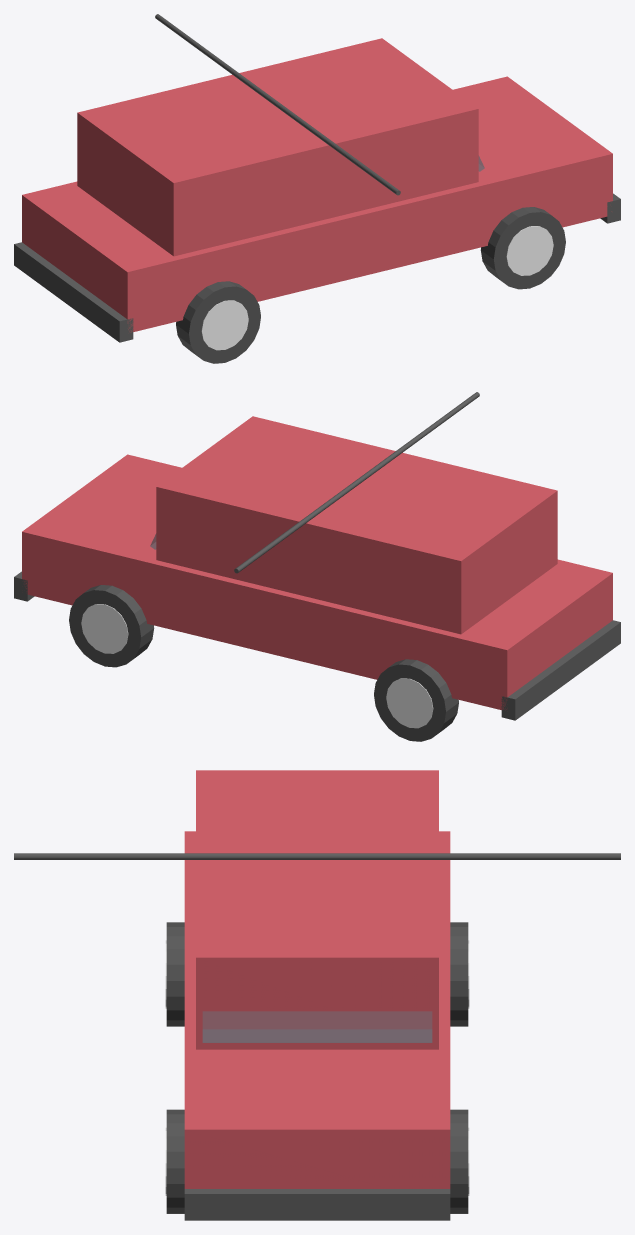
Rendered from jesse_tercel_wagon.glb.
The picture shows the model from 3 angles, top to bottom: view 1: azimuth 30°, elevation 25°; view 2: azimuth 150°, elevation 25°; view 3: azimuth 270°, elevation 25°; orthographic projection. The views are drawn at different scales.
Visible parts, largest first — view 1: Jesse_Tercel_cabin, Jesse_Tercel_body, Jesse_Tercel_br, Jesse_Tercel_wf_r_tire, Jesse_Tercel_wr_r_tire, Jesse_Tercel_wf_r_rim, Jesse_Tercel_wr_r_rim, Jesse_Tercel_rack_l, Jesse_Tercel_rack_r; view 2: Jesse_Tercel_cabin, Jesse_Tercel_body, Jesse_Tercel_br, Jesse_Tercel_wf_l_tire, Jesse_Tercel_wr_l_tire, Jesse_Tercel_wf_l_rim, Jesse_Tercel_wr_l_rim, Jesse_Tercel_rack_r, Jesse_Tercel_rack_l; view 3: Jesse_Tercel_cabin, Jesse_Tercel_body, Jesse_Tercel_bf, Jesse_Tercel_ws, Jesse_Tercel_rack_l, Jesse_Tercel_rack_r, Jesse_Tercel_wr_l_tire, Jesse_Tercel_wr_r_tire, Jesse_Tercel_wf_l_tire, Jesse_Tercel_wf_r_tire.
Boxes of the visible parts, bbox=[...] form: Jesse_Tercel_cabin: bbox=[77, 38, 478, 256]; Jesse_Tercel_body: bbox=[22, 76, 612, 332]; Jesse_Tercel_br: bbox=[14, 242, 133, 342]; Jesse_Tercel_wf_r_tire: bbox=[480, 207, 565, 289]; Jesse_Tercel_wr_r_tire: bbox=[176, 281, 260, 363]; Jesse_Tercel_wf_r_rim: bbox=[506, 226, 553, 275]; Jesse_Tercel_wr_r_rim: bbox=[201, 300, 248, 350]; Jesse_Tercel_rack_l: bbox=[240, 76, 400, 195]; Jesse_Tercel_rack_r: bbox=[155, 14, 313, 131]; Jesse_Tercel_cabin: bbox=[156, 416, 557, 634]; Jesse_Tercel_body: bbox=[22, 454, 612, 710]; Jesse_Tercel_br: bbox=[501, 620, 620, 720]; Jesse_Tercel_wf_l_tire: bbox=[69, 585, 154, 667]; Jesse_Tercel_wr_l_tire: bbox=[374, 659, 458, 741]; Jesse_Tercel_wf_l_rim: bbox=[81, 604, 128, 653]; Jesse_Tercel_wr_l_rim: bbox=[386, 678, 433, 728]; Jesse_Tercel_rack_r: bbox=[234, 454, 394, 573]; Jesse_Tercel_rack_l: bbox=[321, 392, 479, 510]; Jesse_Tercel_cabin: bbox=[196, 770, 438, 1049]; Jesse_Tercel_body: bbox=[184, 831, 450, 1188]; Jesse_Tercel_bf: bbox=[184, 1189, 450, 1220]; Jesse_Tercel_ws: bbox=[202, 1011, 432, 1042]; Jesse_Tercel_rack_l: bbox=[14, 853, 407, 859]; Jesse_Tercel_rack_r: bbox=[227, 853, 620, 859]; Jesse_Tercel_wr_l_tire: bbox=[450, 922, 468, 1026]; Jesse_Tercel_wr_r_tire: bbox=[166, 922, 184, 1026]; Jesse_Tercel_wf_l_tire: bbox=[450, 1109, 468, 1213]; Jesse_Tercel_wf_r_tire: bbox=[166, 1109, 184, 1213].
Size of the model in its own units: 4.44 by 1.6 by 3.7.
